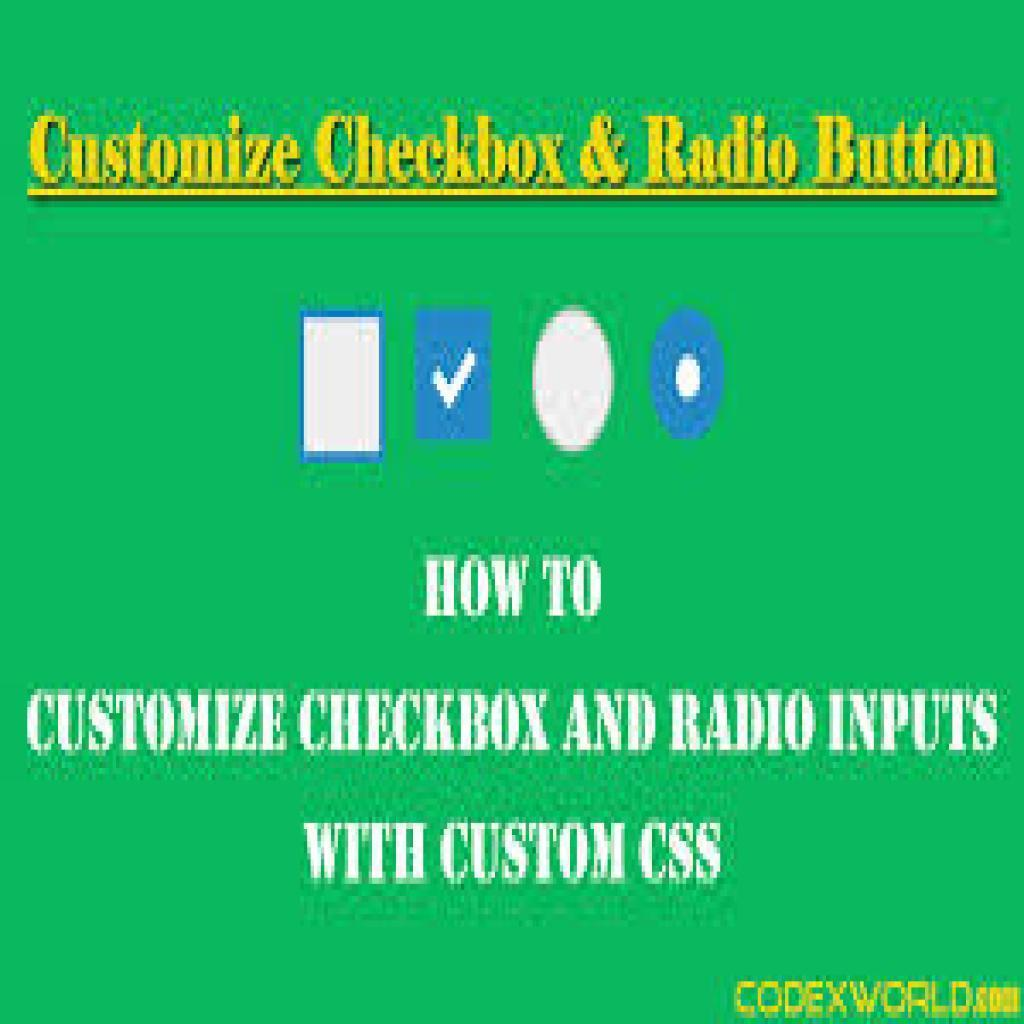checkbox: (301, 312, 384, 457), (415, 307, 496, 437)
radio: (537, 309, 616, 453), (653, 309, 723, 446)
